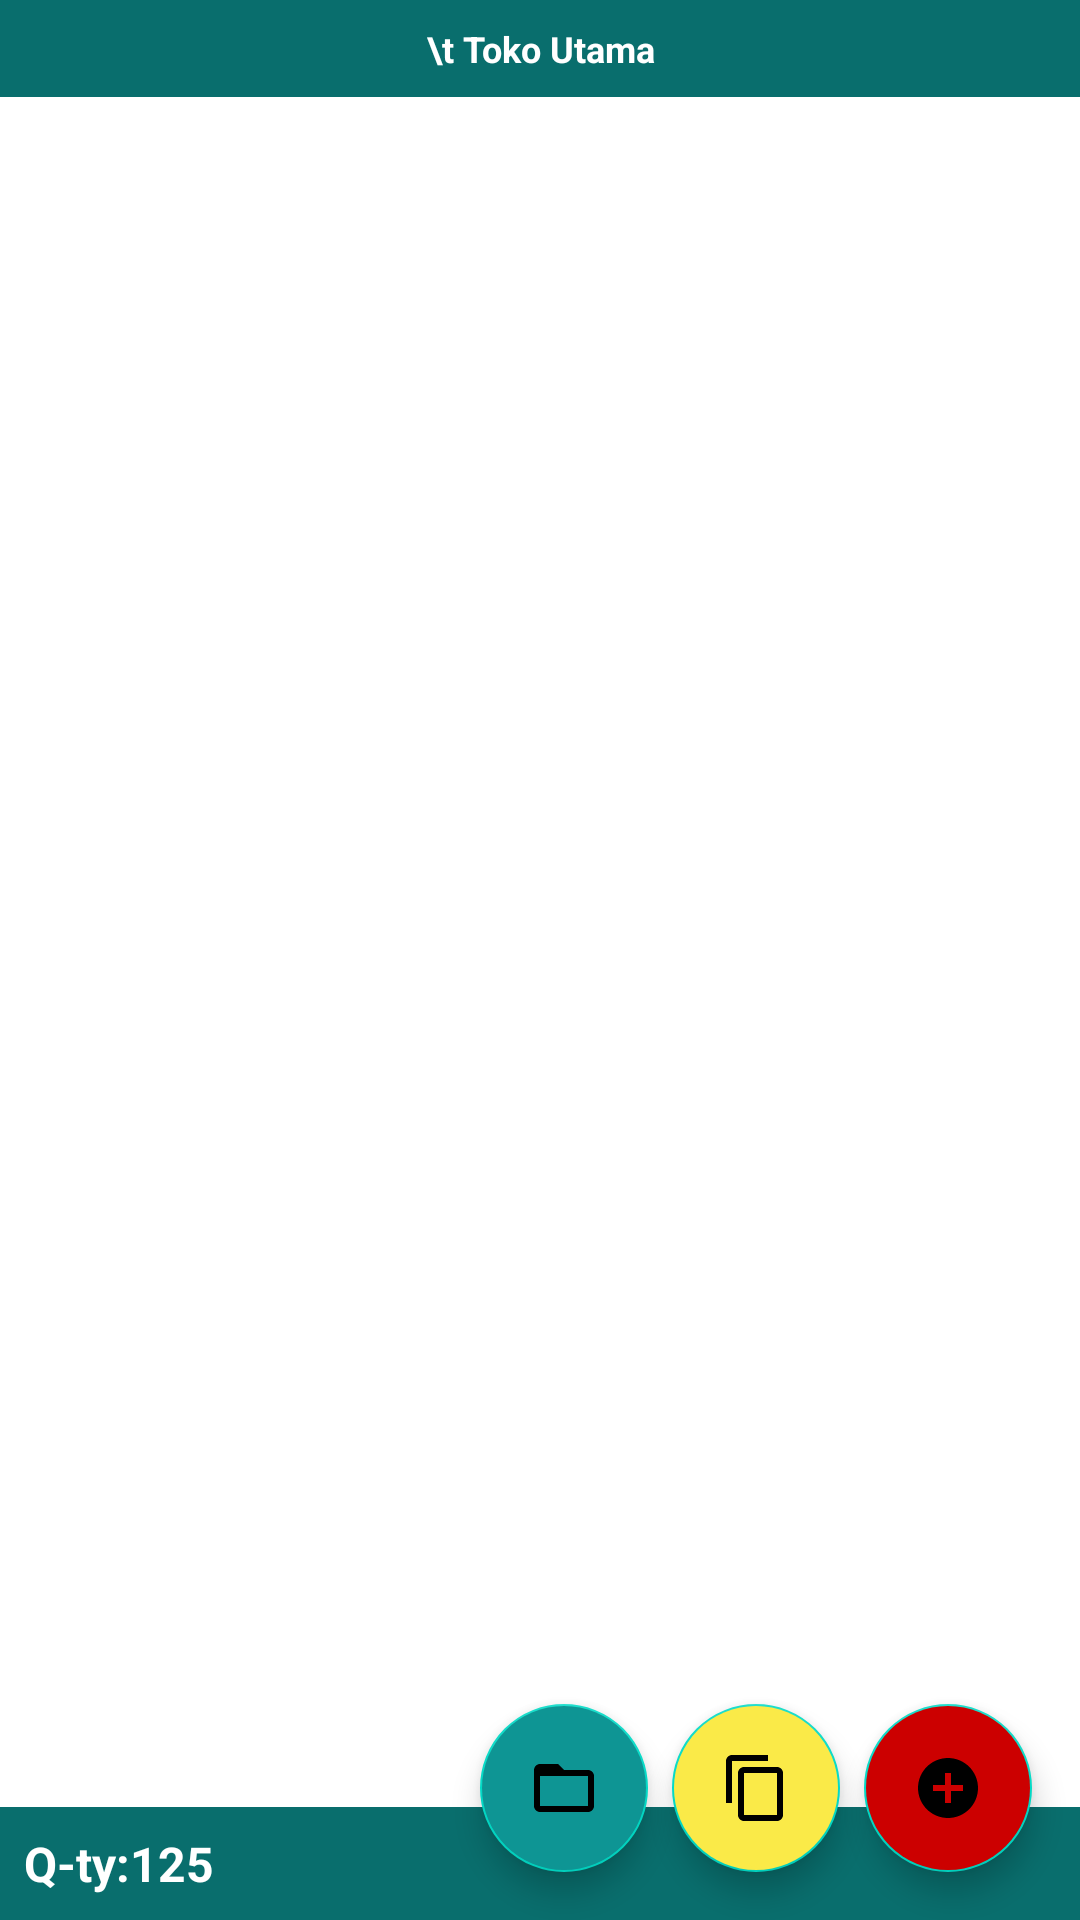

Named icons in this screenshot (1080×1920) and their centers, (x,y):
add: (948,1788)
folder: (564,1788)
